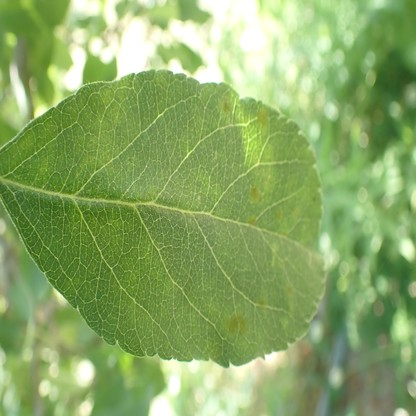scab: (226, 317, 251, 335), (249, 186, 263, 205), (256, 108, 268, 128), (221, 97, 233, 115), (285, 280, 293, 298), (248, 214, 256, 226), (277, 207, 282, 224), (258, 299, 266, 308)
